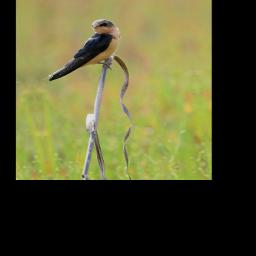Swallow: (29, 14, 130, 85)
